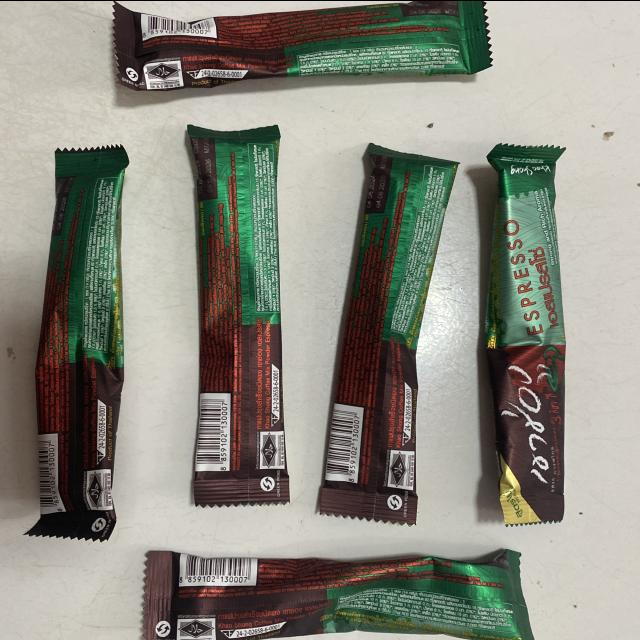plastik: (320, 143, 458, 524), (27, 144, 128, 539), (188, 125, 290, 506), (144, 549, 534, 640), (113, 0, 491, 89), (485, 143, 566, 524)
